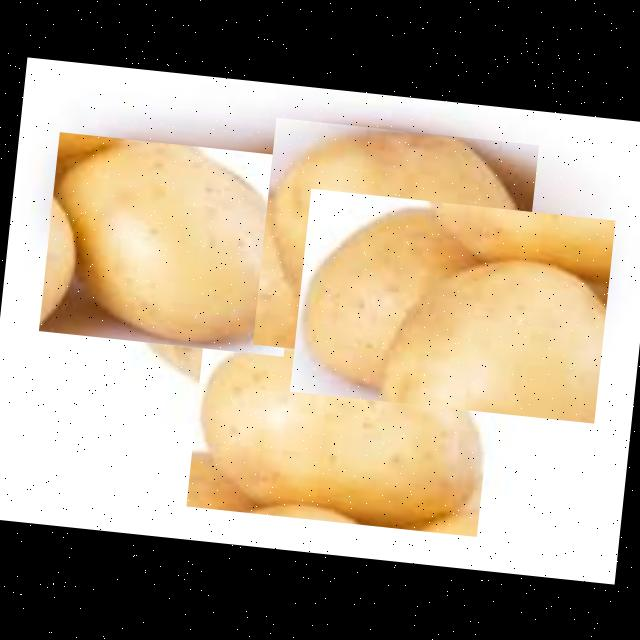Potato: (288, 187, 614, 422), (252, 117, 538, 370), (185, 318, 495, 535), (36, 130, 304, 356)
